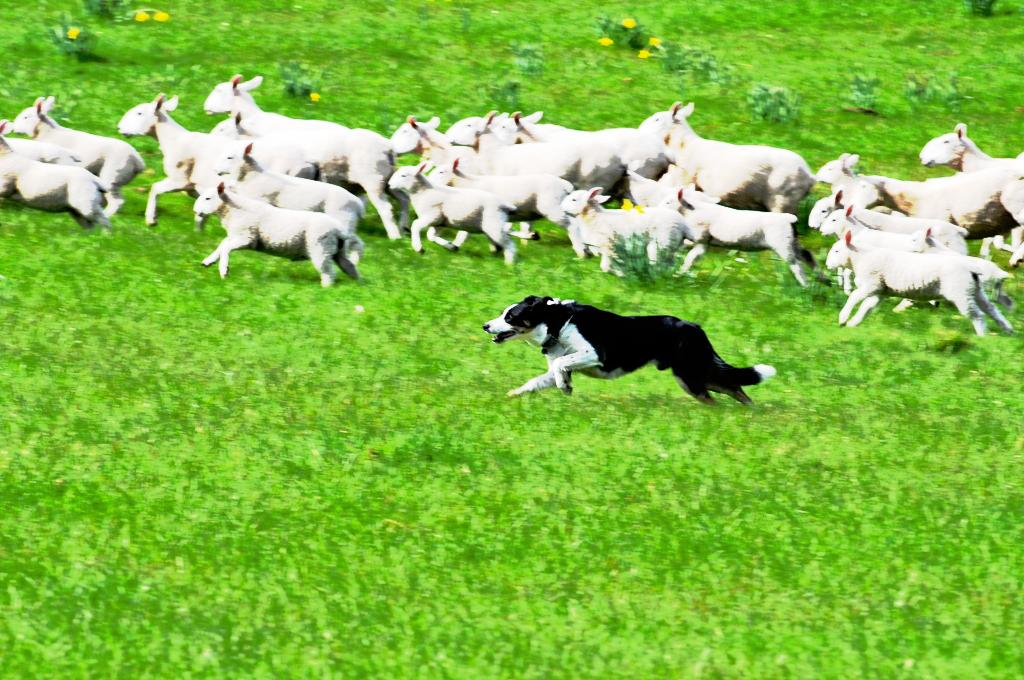Sheep: (0, 70, 1023, 349), (185, 185, 362, 299), (817, 233, 1004, 337), (378, 156, 525, 267), (0, 124, 116, 235), (121, 91, 209, 216)
